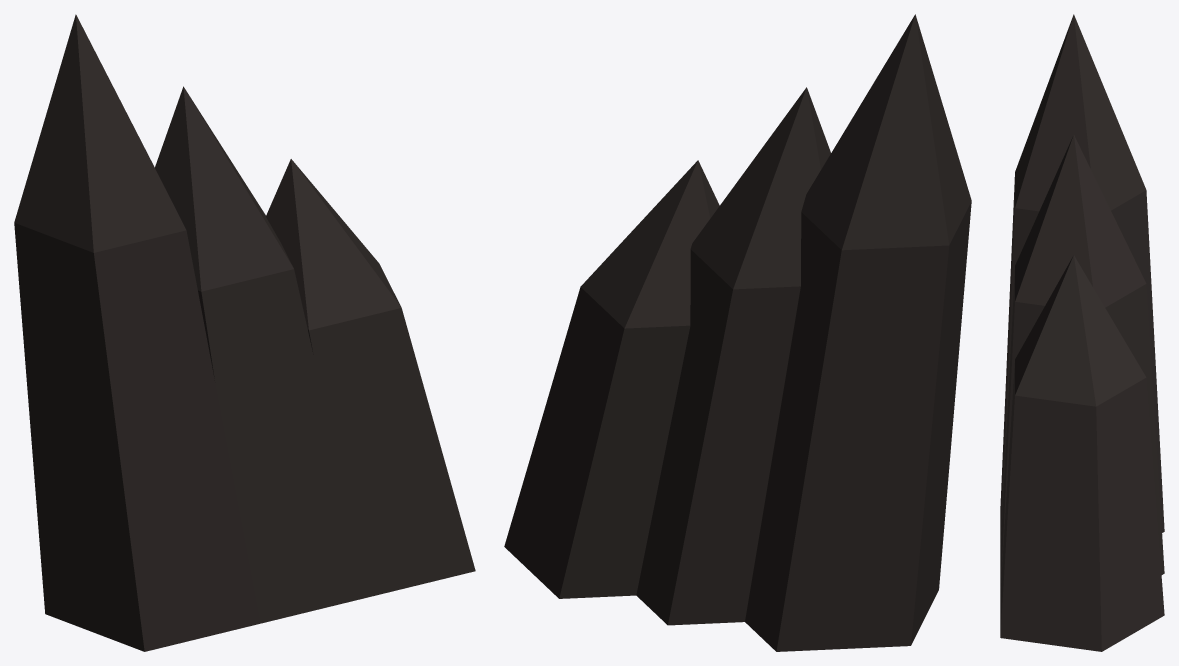
The model's file is RockSpire_B.fbx.
3 renders of one model, left to right at view 1: azimuth 30°, elevation 25°; view 2: azimuth 150°, elevation 25°; view 3: azimuth 270°, elevation 25°, orthographic. The views are drawn at different scales.
Visible parts, largest first — view 1: RockSpire_B; view 2: RockSpire_B; view 3: RockSpire_B.
Boxes of the visible parts, x1=… form: RockSpire_B: x1=14, y1=14, x2=475, y2=651; RockSpire_B: x1=504, y1=14, x2=971, y2=651; RockSpire_B: x1=1000, y1=14, x2=1164, y2=651.
Bounding box in the file's own units: 1.4 × 1.86 × 0.5708.
1 material, 1 textured.
